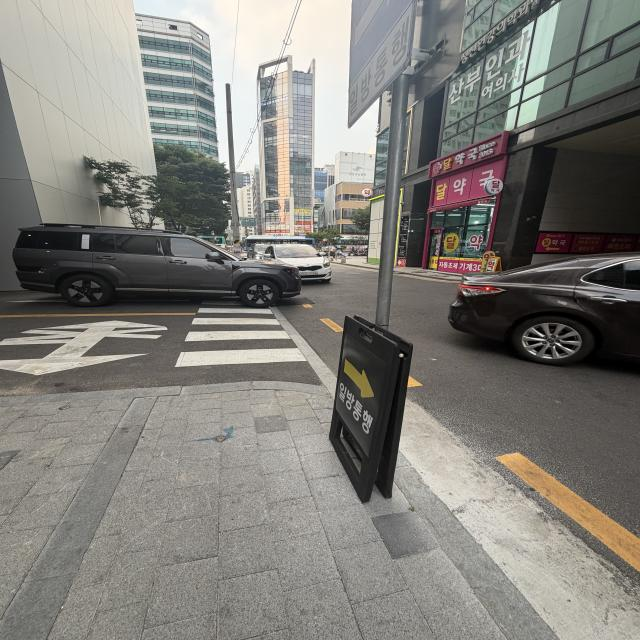car: (3, 214, 314, 330), (427, 236, 640, 392), (254, 236, 341, 289)
